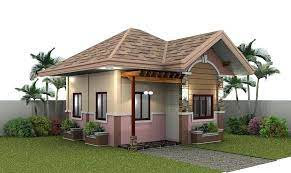Building House: (32, 26, 261, 144)
